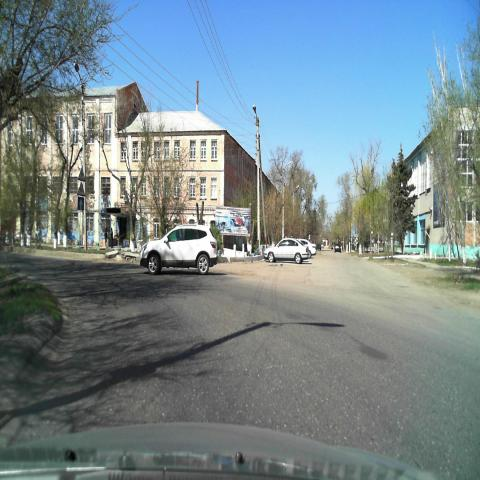1_23: (76, 182, 86, 196)
